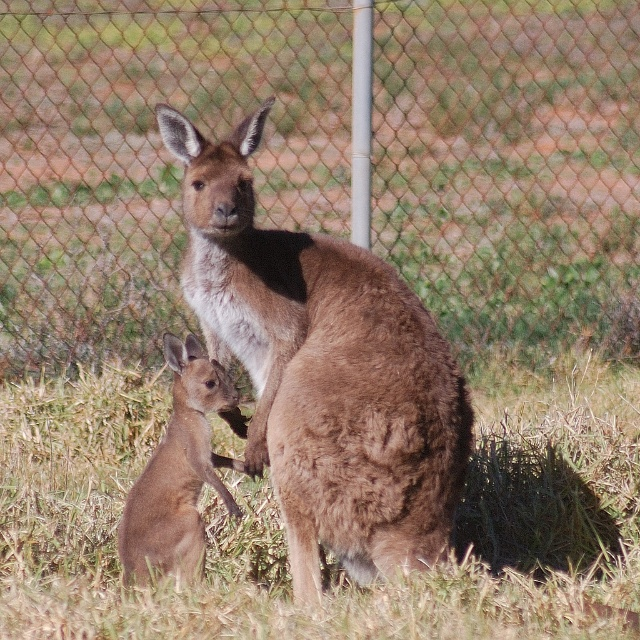Kangaroo: (155, 93, 475, 603), (117, 332, 244, 596)
